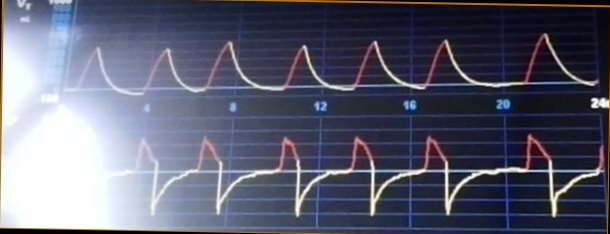Normal Flow: (103, 129, 606, 218)
Normal Volume: (72, 26, 595, 97)
